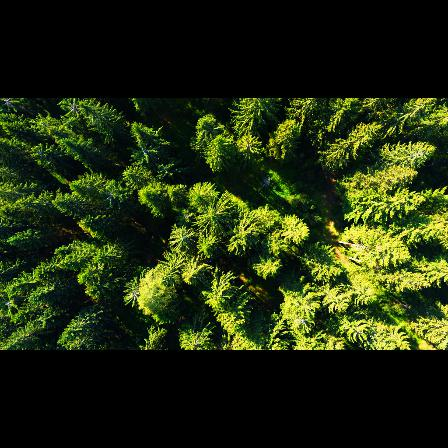Sick: (127, 136, 158, 166), (122, 278, 146, 310), (0, 98, 18, 117)
